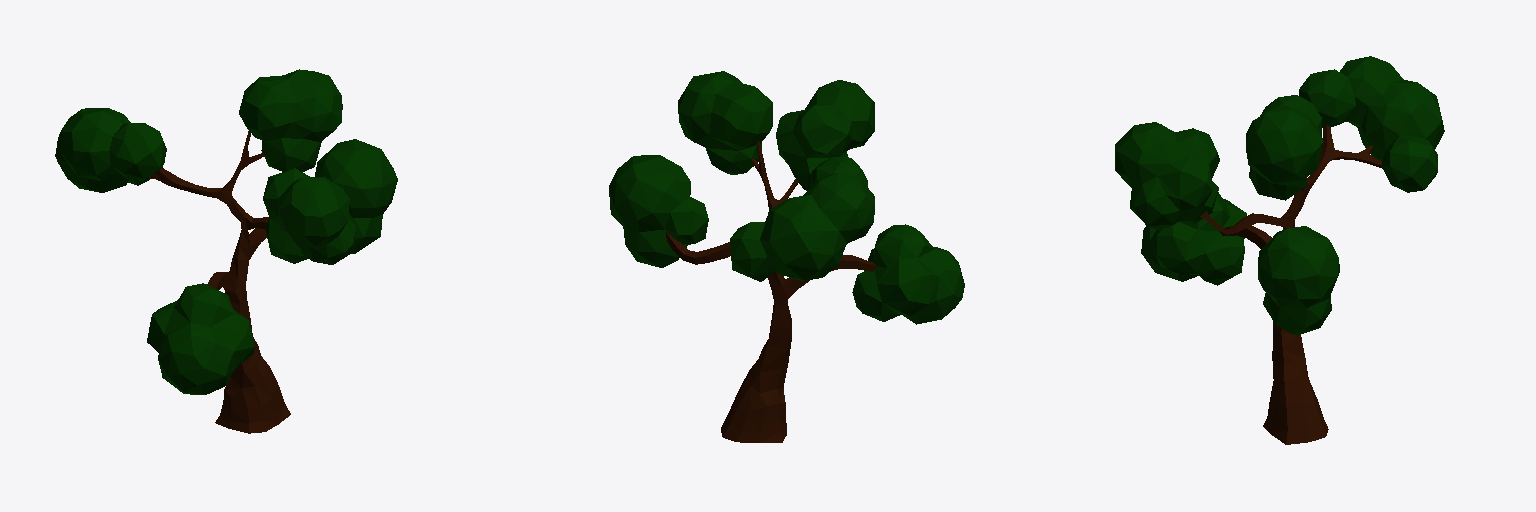
The model's file is tree1.obj.
3 renders of one model, left to right at view 1: azimuth 30°, elevation 25°; view 2: azimuth 150°, elevation 25°; view 3: azimuth 270°, elevation 25°, orthographic.
Parts seen in each view (by area): view 1: LowPoly_Tree_04_lowpoly_tree_05_Mesh.001; view 2: LowPoly_Tree_04_lowpoly_tree_05_Mesh.001; view 3: LowPoly_Tree_04_lowpoly_tree_05_Mesh.001.
Part boxes in pixels (x1,y1,x2,y2): LowPoly_Tree_04_lowpoly_tree_05_Mesh.001: (55, 69, 397, 433); LowPoly_Tree_04_lowpoly_tree_05_Mesh.001: (609, 71, 964, 442); LowPoly_Tree_04_lowpoly_tree_05_Mesh.001: (1115, 56, 1444, 444).
Bounding box in the file's own units: 3.63 × 4.08 × 3.58.